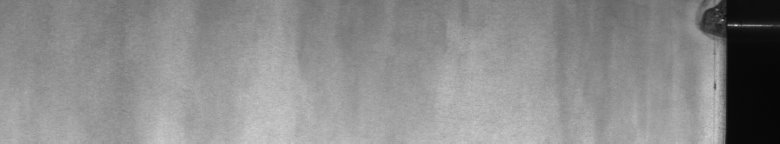hb: (689, 4, 716, 96)
